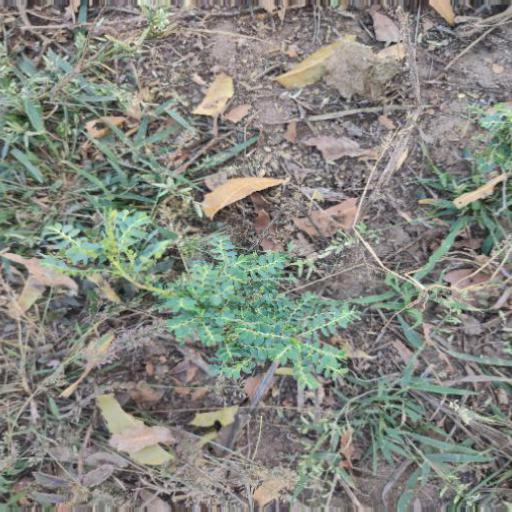weed: (23, 197, 353, 399), (6, 4, 192, 183)
